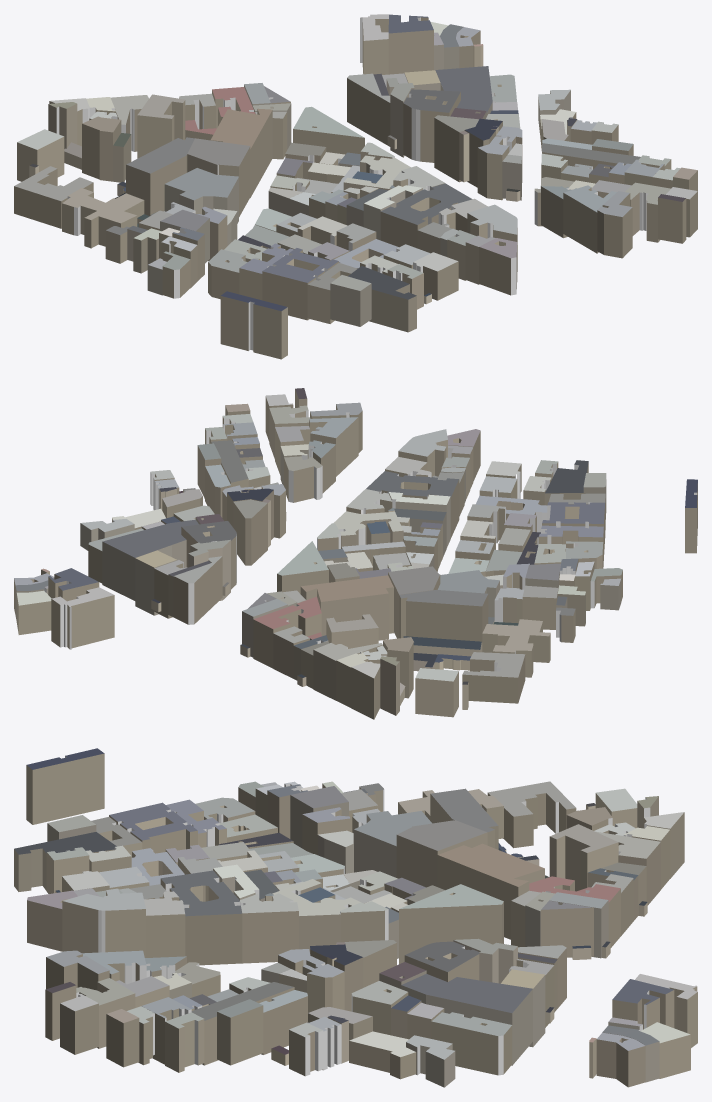
The picture shows the model from 3 angles, top to bottom: view 1: azimuth 30°, elevation 25°; view 2: azimuth 150°, elevation 25°; view 3: azimuth 270°, elevation 25°; orthographic projection. The views are drawn at different scales.
Parts seen in each view (by area): view 1: tuile; view 2: tuile; view 3: tuile.
Boxes of the visible parts, <box> form: tuile: <box>14,14,697,359</box>; tuile: <box>14,388,697,719</box>; tuile: <box>14,748,697,1087</box>.
Size of the model in its own units: 275 by 34.73 by 279.
